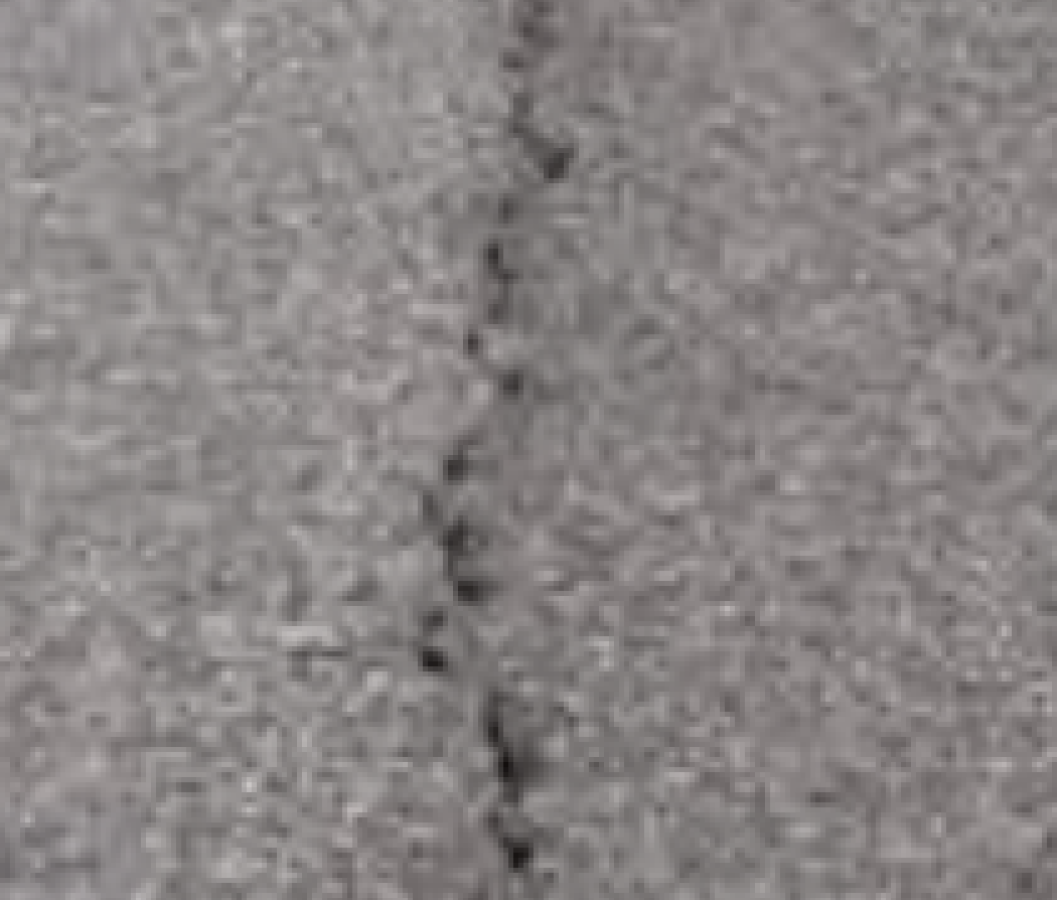Retak Memanjang: (402, 1, 592, 677), (443, 665, 571, 900)
